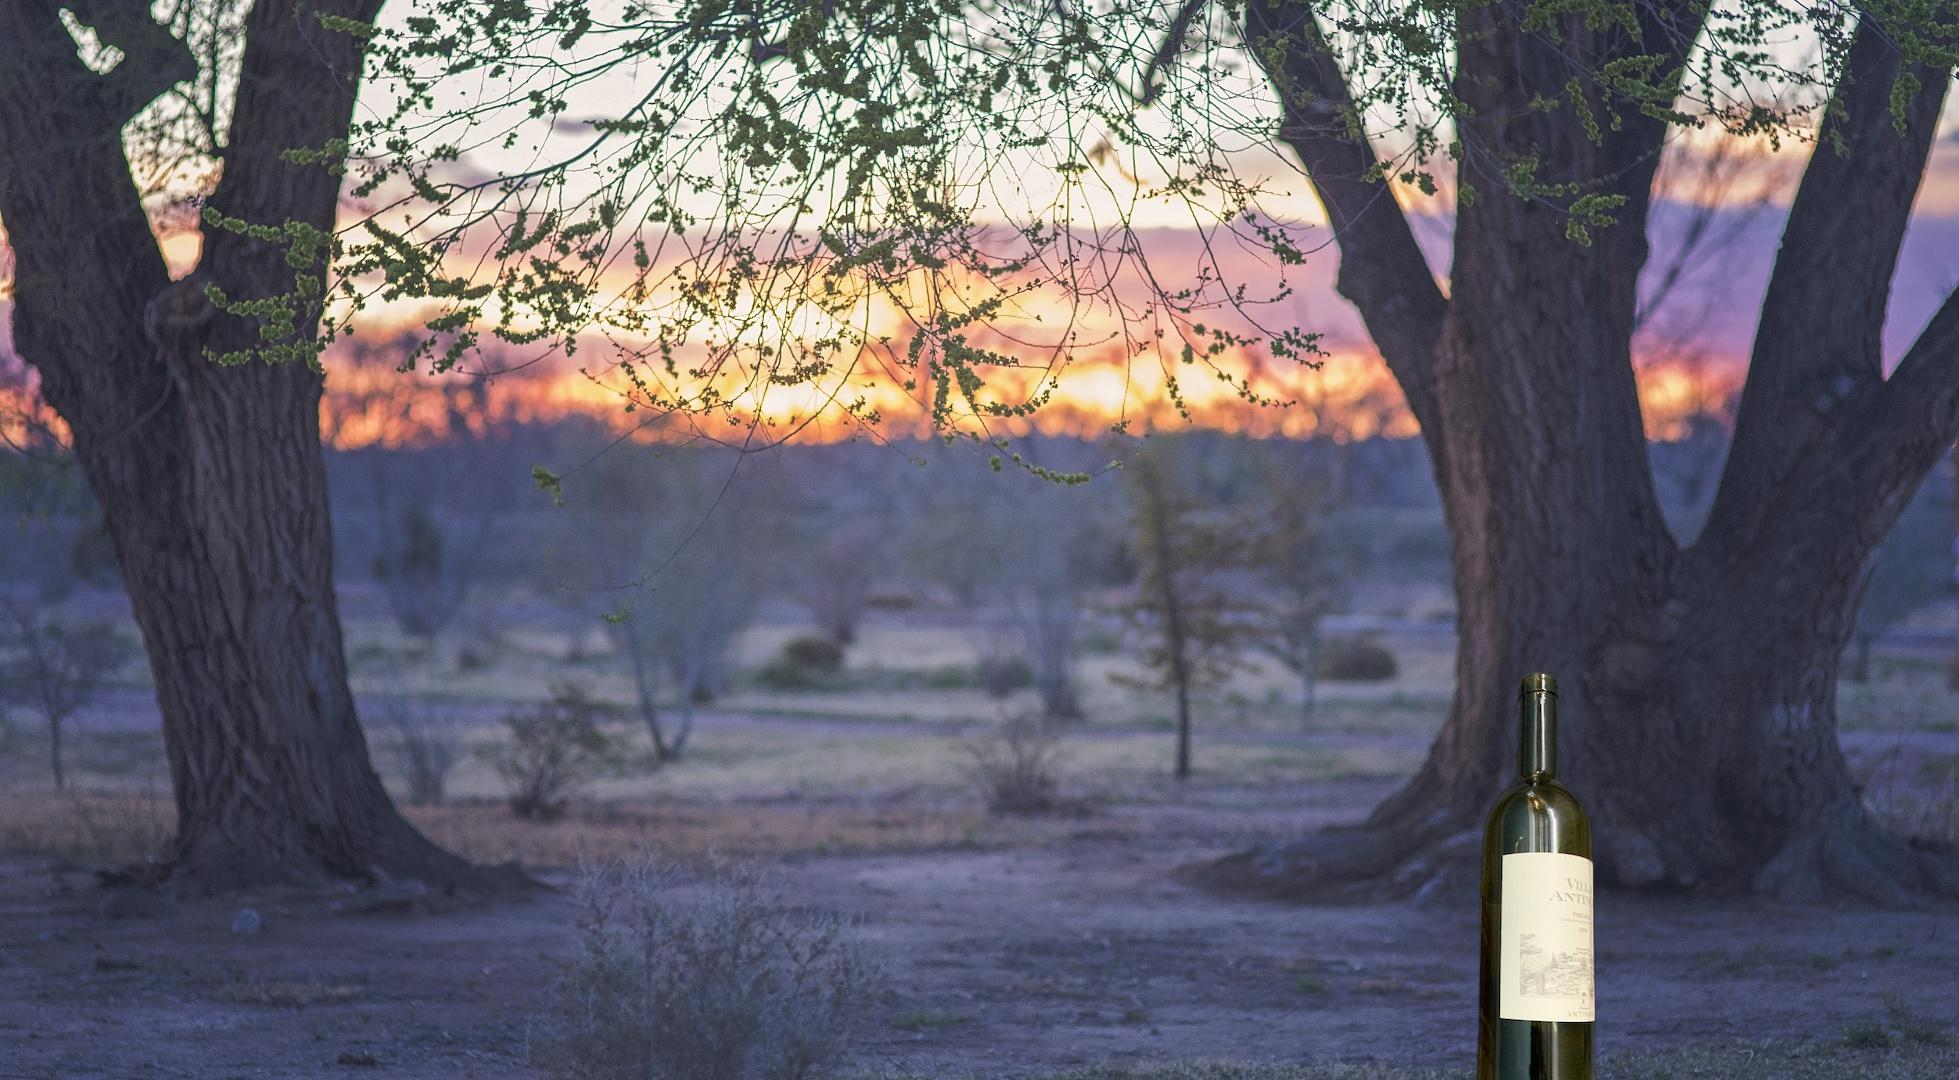glass: (1472, 666, 1600, 1080)
